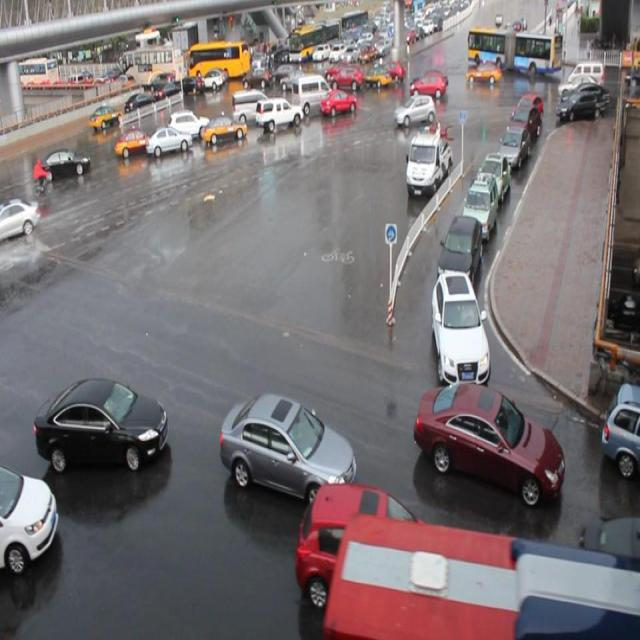bus: (405, 133, 451, 198)
car: (295, 481, 443, 614), (413, 382, 564, 505), (220, 391, 356, 506), (34, 376, 169, 470), (430, 271, 489, 383), (1, 463, 60, 568), (576, 510, 640, 587), (599, 383, 640, 476), (437, 213, 481, 290), (461, 173, 497, 243), (474, 152, 510, 206), (1, 197, 41, 240), (38, 145, 91, 177), (202, 112, 247, 146), (255, 98, 302, 130), (495, 124, 527, 170), (507, 106, 539, 150), (168, 110, 211, 139), (146, 126, 192, 153), (394, 94, 434, 125), (517, 94, 543, 132), (115, 128, 156, 152), (321, 90, 358, 115)
truck: (292, 77, 333, 113), (232, 90, 274, 122)
van: (322, 515, 640, 640)
